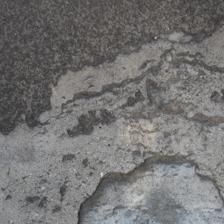Crack: (77, 153, 163, 223), (162, 151, 223, 204)
